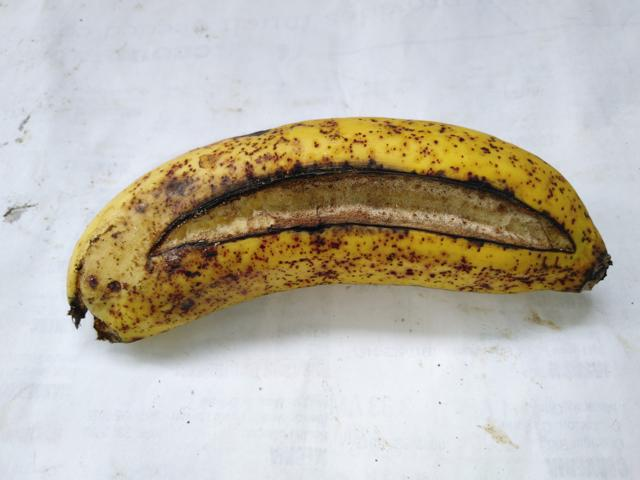rotten: (122, 144, 577, 279), (38, 238, 158, 367)
